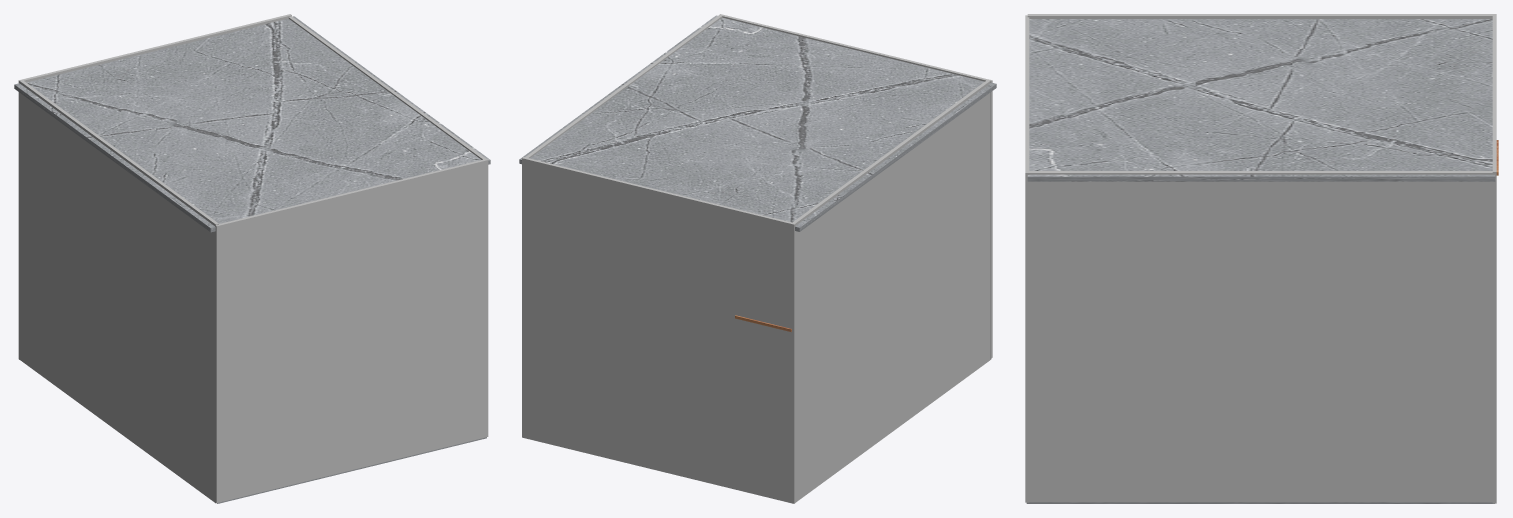
Rendered from dressing01.fbx.
3 views of the same model, side by side, from view 1: azimuth 30°, elevation 25°; view 2: azimuth 150°, elevation 25°; view 3: azimuth 270°, elevation 25° (orthographic). The views are drawn at different scales.
Parts seen in each view (by area): view 1: mur04, box, top, mur02; view 2: box, top, mur04, mur02; view 3: mur02, top, box, mur04.
Part boxes in pixels (x1,y1,x2,y2): mur04: [215, 158, 488, 502]; box: [18, 14, 486, 503]; top: [14, 16, 490, 232]; mur02: [288, 16, 485, 159]; box: [522, 79, 991, 503]; top: [519, 15, 996, 231]; mur04: [719, 14, 992, 358]; mur02: [525, 15, 722, 158]; mur02: [1029, 171, 1492, 502]; top: [1027, 19, 1495, 181]; box: [1026, 14, 1498, 503]; mur04: [1025, 15, 1029, 502].
Bounding box in the file's own units: 412 × 393 × 506.
